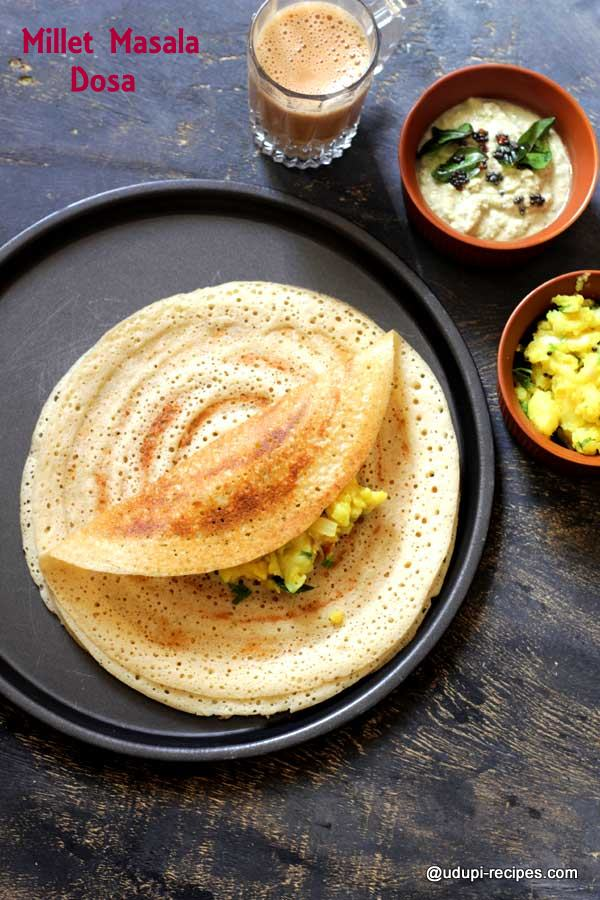dosa: (19, 279, 463, 715)
